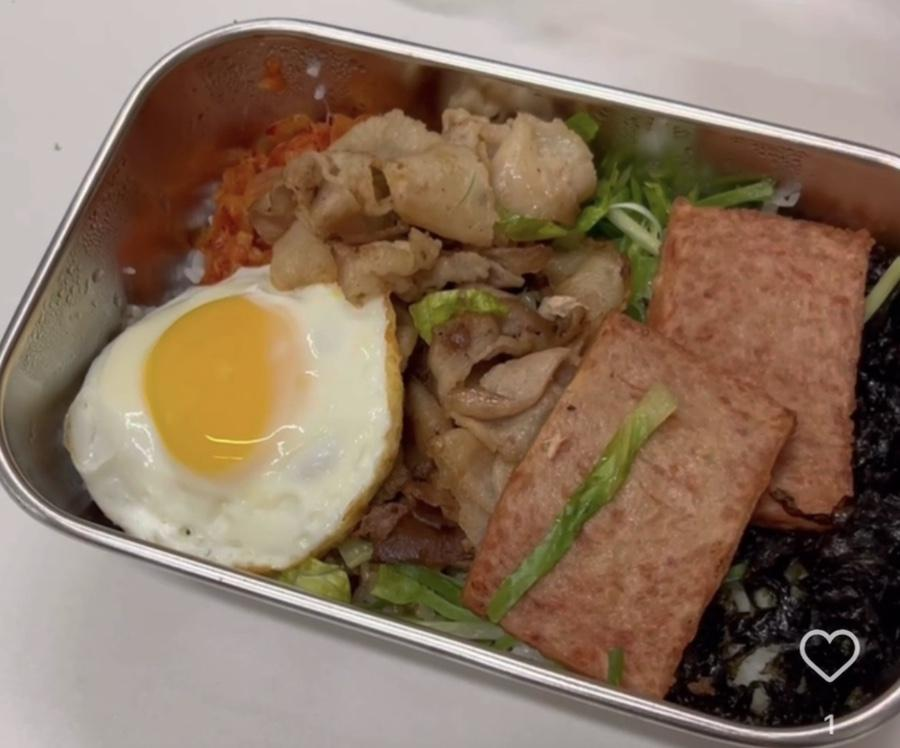Lunch Box: (0, 20, 899, 747)
